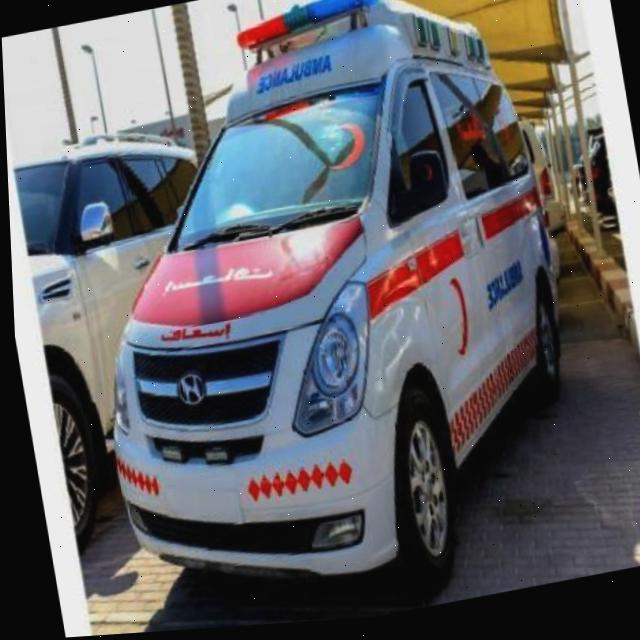emergency: (40, 0, 608, 638)
